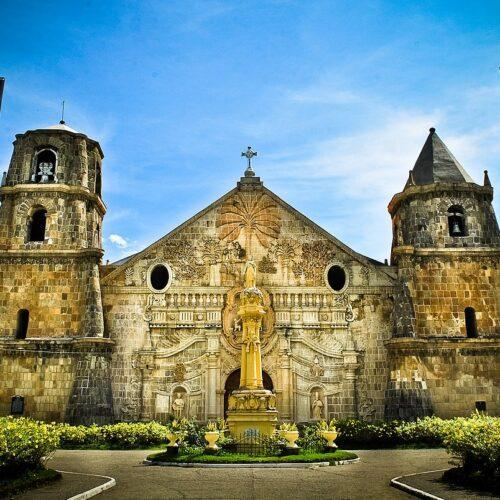Miagao Church: (2, 93, 500, 435)
